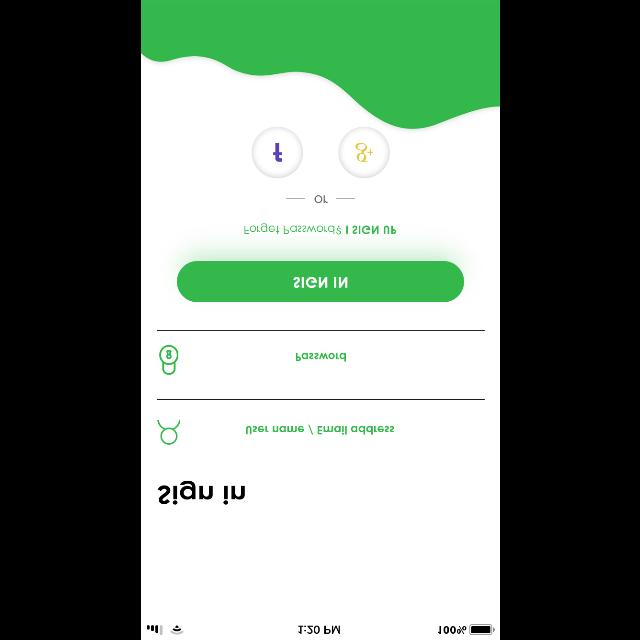icon: (338, 126, 390, 178), (252, 126, 302, 178), (158, 345, 178, 375), (156, 420, 180, 444)
input: (156, 399, 484, 445), (156, 330, 484, 374)
text: (158, 480, 245, 504), (246, 424, 394, 434), (244, 223, 340, 234), (296, 352, 346, 362), (352, 226, 396, 234), (314, 195, 328, 203)
textbutton: (176, 260, 464, 302)
uppertaskbar: (140, 623, 500, 639)
